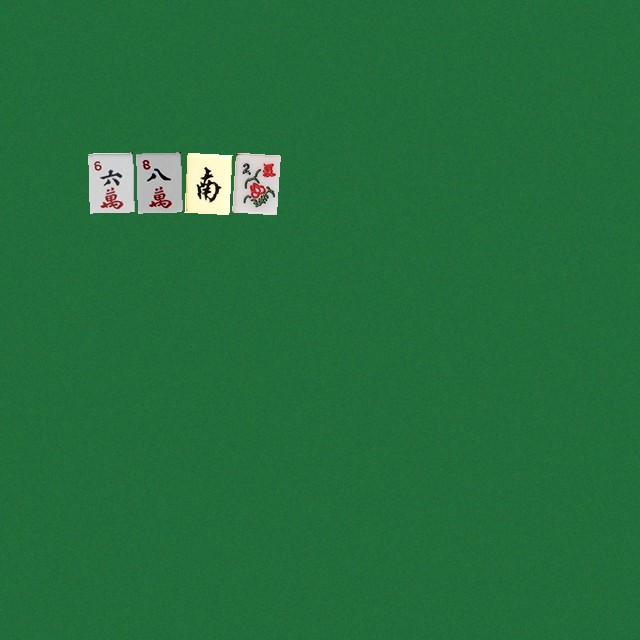tile: (88, 152, 133, 212), (136, 152, 181, 212), (184, 152, 229, 212), (232, 152, 277, 212)
